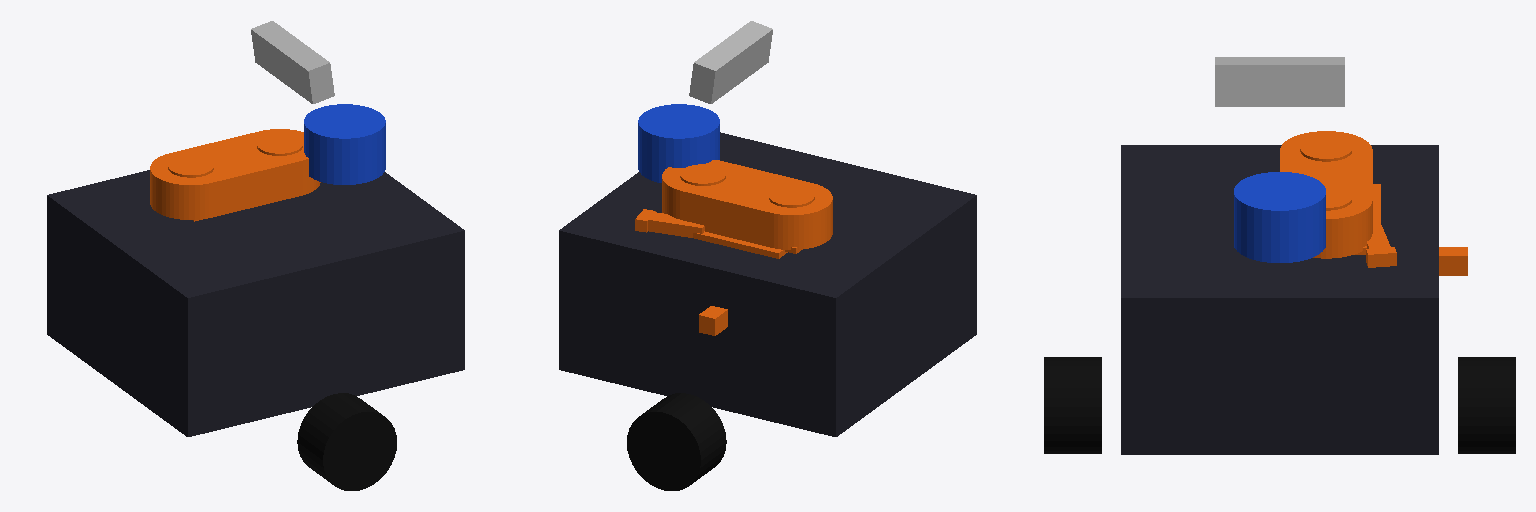
The robot description file, URDF, robot "marcus":
<?xml version="1.0"?>
<robot name="marcus">

  <!-- ==============================
       BASE LINK (Origin at axle centerline / robot chassis center)
       ============================== -->
  <link name="base_link">
    <!-- Visual: Main chassis block -->
    <visual>
      <origin xyz="0 0 0.08" rpy="0 0 0"/>
      <geometry>
        <box size="0.25 0.22 0.12"/>
      </geometry>
      <material name="marcus_dark">
        <color rgba="0.18 0.18 0.22 1.0"/>
      </material>
    </visual>

    <!-- Visual: Mesh 3D STL di Marcus -->
    <visual>
      <origin xyz="0 0 0.10" rpy="-1.5708 0 0"/>
      <geometry>
        <mesh filename="package://robopy_controller/urdf/Marcus.stl" scale="0.001 0.001 0.001"/>
      </geometry>
      <material name="marcus_orange">
        <color rgba="0.95 0.45 0.10 1.0"/>
      </material>
    </visual>

    <collision>
      <origin xyz="0 0 0.08" rpy="0 0 0"/>
      <geometry>
        <box size="0.25 0.22 0.12"/>
      </geometry>
    </collision>
  </link>

  <!-- ==============================
       BASE FOOTPRINT (Ground projection at Z = 0)
       ============================== -->
  <link name="base_footprint"/>

  <joint name="base_footprint_joint" type="fixed">
    <parent link="base_link"/>
    <child link="base_footprint"/>
    <origin xyz="0 0 -0.0335" rpy="0 0 0"/>
  </joint>

  <!-- ==============================
       TRACKS & WHEELS (67mm diameter, 285mm separation)
       ============================== -->
  <link name="left_track">
    <visual>
      <origin xyz="0 0 0" rpy="1.5708 0 0"/>
      <geometry>
        <cylinder radius="0.0335" length="0.04"/>
      </geometry>
      <material name="track_black">
        <color rgba="0.1 0.1 0.1 1.0"/>
      </material>
    </visual>
  </link>

  <joint name="left_track_joint" type="fixed">
    <parent link="base_link"/>
    <child link="left_track"/>
    <origin xyz="0 0.1425 0.0" rpy="0 0 0"/>
  </joint>

  <link name="right_track">
    <visual>
      <origin xyz="0 0 0" rpy="1.5708 0 0"/>
      <geometry>
        <cylinder radius="0.0335" length="0.04"/>
      </geometry>
      <material name="track_black">
        <color rgba="0.1 0.1 0.1 1.0"/>
      </material>
    </visual>
  </link>

  <joint name="right_track_joint" type="fixed">
    <parent link="base_link"/>
    <child link="right_track"/>
    <origin xyz="0 -0.1425 0.0" rpy="0 0 0"/>
  </joint>

  <!-- ==============================
       RPLIDAR C1 (360° ToF Laser Scan, Z=0.18m, yaw=180°)
       ============================== -->
  <link name="laser">
    <visual>
      <origin xyz="0 0 0" rpy="0 0 0"/>
      <geometry>
        <cylinder radius="0.032" length="0.04"/>
      </geometry>
      <material name="lidar_blue">
        <color rgba="0.15 0.35 0.85 1.0"/>
      </material>
    </visual>
  </link>

  <joint name="laser_joint" type="fixed">
    <parent link="base_link"/>
    <child link="laser"/>
    <origin xyz="0.08 0.0 0.18" rpy="0.0 0.0 3.14159265"/>
  </joint>

  <!-- ==============================
       OAK-D LITE CAMERA (Z=0.2616m, pitch=8° UP / -0.1396 rad)
       ============================== -->
  <link name="oak_camera_link">
    <visual>
      <origin xyz="0 0 0" rpy="0 0 0"/>
      <geometry>
        <box size="0.02 0.09 0.03"/>
      </geometry>
      <material name="camera_silver">
        <color rgba="0.75 0.75 0.75 1.0"/>
      </material>
    </visual>
  </link>

  <joint name="oak_camera_joint" type="fixed">
    <parent link="base_link"/>
    <child link="oak_camera_link"/>
    <origin xyz="0.0332 0.0 0.2616" rpy="0.0 -0.1396 0.0"/>
  </joint>

  <!-- REP-103: Optical frame for RGB & Depth (roll=-π/2, yaw=-π/2) -->
  <link name="camera_optical_frame"/>

  <joint name="camera_optical_joint" type="fixed">
    <parent link="oak_camera_link"/>
    <child link="camera_optical_frame"/>
    <origin xyz="0 0 0" rpy="-1.5708 0.0 -1.5708"/>
  </joint>

  <link name="oak_left_camera_optical_frame"/>

  <joint name="oak_left_camera_optical_joint" type="fixed">
    <parent link="oak_camera_link"/>
    <child link="oak_left_camera_optical_frame"/>
    <origin xyz="0 0 0" rpy="-1.5708 0.0 -1.5708"/>
  </joint>

  <!-- OAK IMU -->
  <link name="oak_imu_frame"/>

  <joint name="oak_imu_joint" type="fixed">
    <parent link="oak_camera_link"/>
    <child link="oak_imu_frame"/>
    <origin xyz="0 0 0" rpy="0 0 0"/>
  </joint>

  <!-- ==============================
       CHASSIS IMU & SENSORS
       ============================== -->
  <link name="chassis_imu_link"/>

  <joint name="chassis_imu_joint" type="fixed">
    <parent link="base_link"/>
    <child link="chassis_imu_link"/>
    <origin xyz="0.0 0.0 0.05" rpy="0 0 0"/>
  </joint>

  <link name="imu_link"/>

  <joint name="imu_joint" type="fixed">
    <parent link="base_link"/>
    <child link="imu_link"/>
    <origin xyz="0.10 0.0 0.15" rpy="0 0 0"/>
  </joint>

  <!-- Ultrasonic Sensor -->
  <link name="ultrasonic_sensor"/>

  <joint name="ultrasonic_sensor_joint" type="fixed">
    <parent link="base_link"/>
    <child link="ultrasonic_sensor"/>
    <origin xyz="0.12 0.0 0.05" rpy="0 0 0"/>
  </joint>

</robot>

--- Render facts (derived) ---
Views: 3 orthographic renders of the robot side by side, from view 1: azimuth 30°, elevation 25°; view 2: azimuth 150°, elevation 25°; view 3: azimuth 270°, elevation 25°.
Robot: marcus — 12 links, 11 joints (11 fixed); root link base_link; default pose: every joint at zero.
Links seen in each view (by area): view 1: base_link, right_track, laser, oak_camera_link; view 2: base_link, left_track, laser, oak_camera_link; view 3: base_link, laser, oak_camera_link, left_track, right_track.
Boxes of the visible links, bbox=[...] form: base_link: bbox=[47, 129, 464, 436]; right_track: bbox=[297, 393, 396, 490]; laser: bbox=[304, 104, 385, 184]; oak_camera_link: bbox=[251, 21, 334, 103]; base_link: bbox=[559, 132, 976, 436]; left_track: bbox=[627, 393, 726, 490]; laser: bbox=[638, 104, 719, 182]; oak_camera_link: bbox=[689, 21, 772, 103]; base_link: bbox=[1121, 131, 1467, 454]; laser: bbox=[1234, 172, 1325, 262]; oak_camera_link: bbox=[1215, 57, 1344, 106]; left_track: bbox=[1458, 357, 1515, 453]; right_track: bbox=[1044, 357, 1101, 453].
Size in the robot's own frame: 0.25 by 0.325 by 0.3113 metres.
Meshes: 1 distinct files referenced, 1 mesh visuals loaded (1 binary STL).
